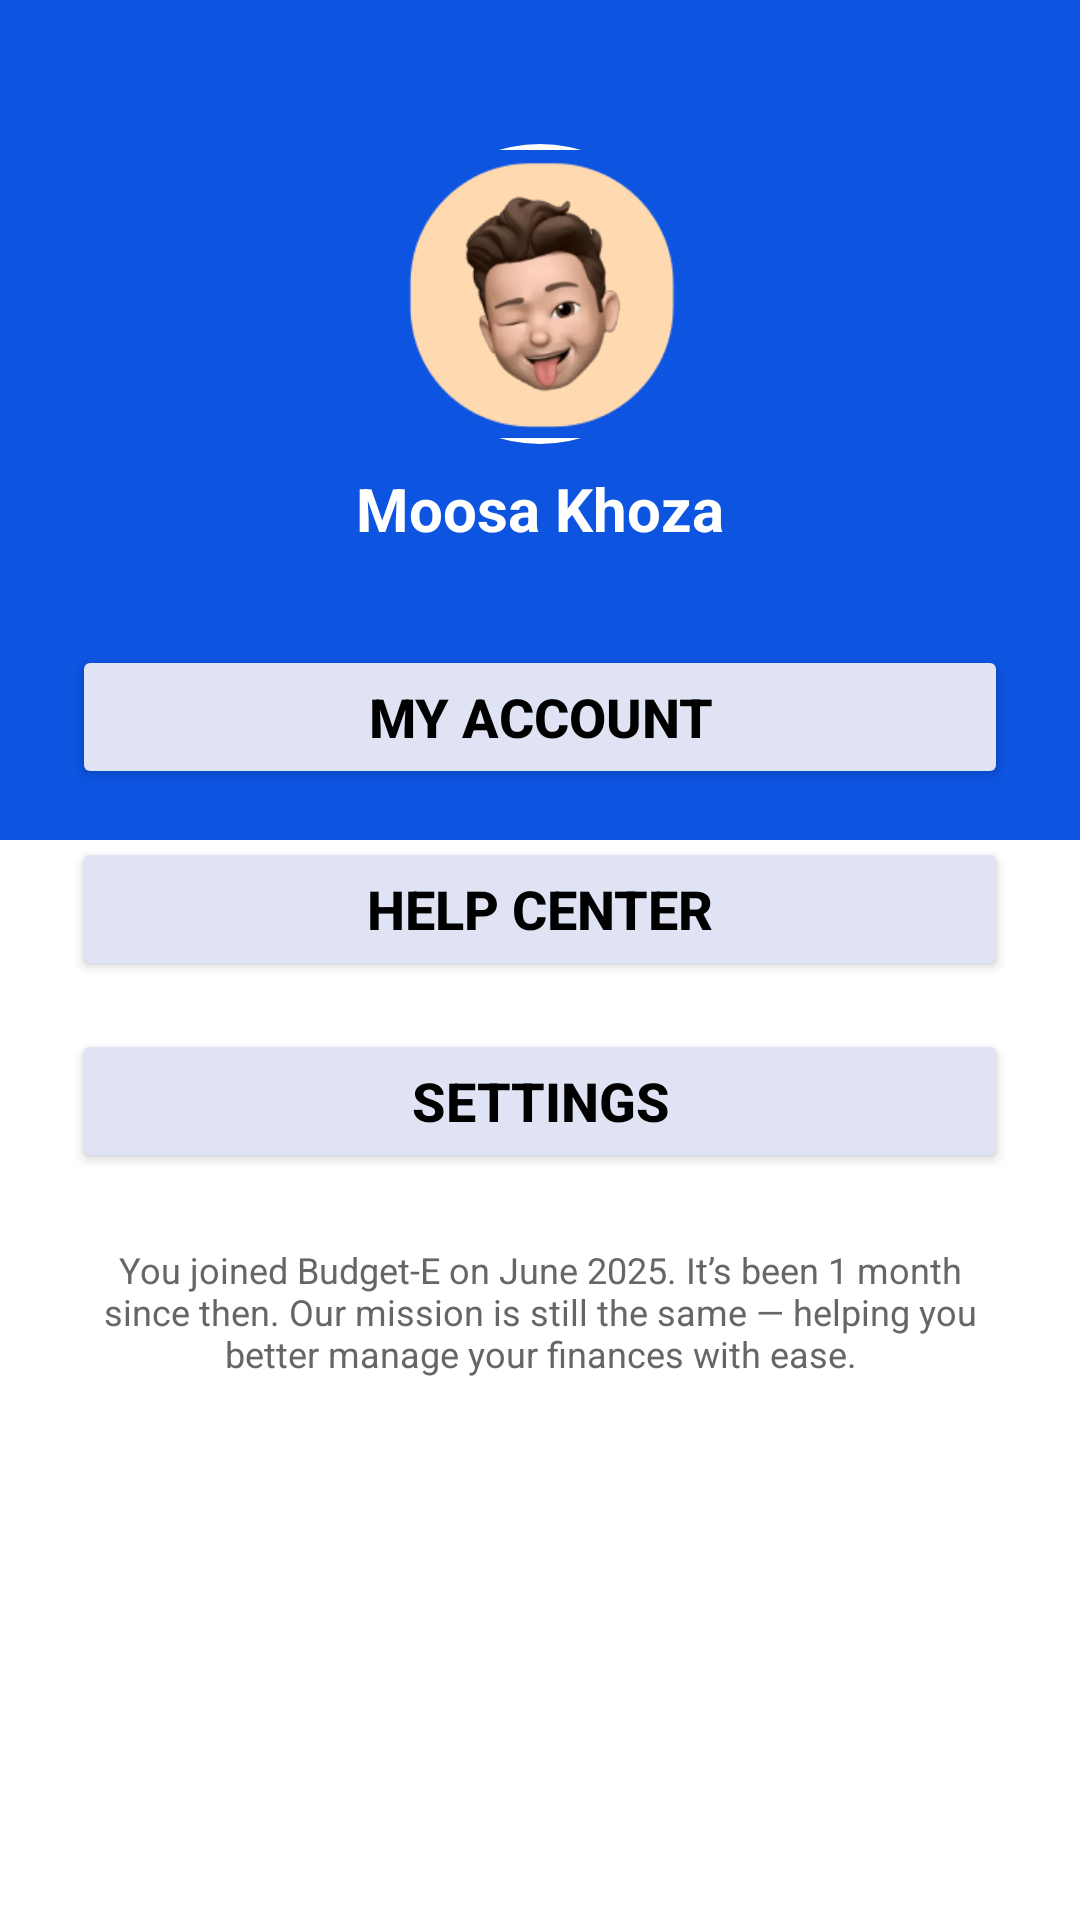

Icon bounding boxes for this 1080px x 1920px phone screenshot, format (x1, y1, x2, y2):
User profile picture: (409, 144, 674, 444)
